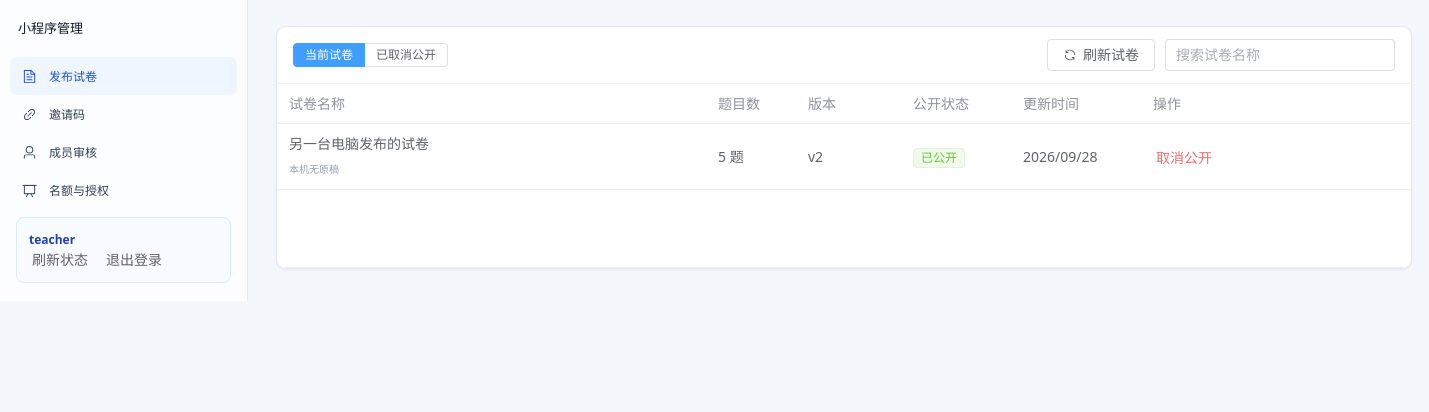
Scenario: keeps expired authorized members out of pending review and lets the owner remove them
What coordinates should you click on to do the following:
click the button "成员审核"
I would click on:
 (124, 152)
Its box is [10,133,237,171].
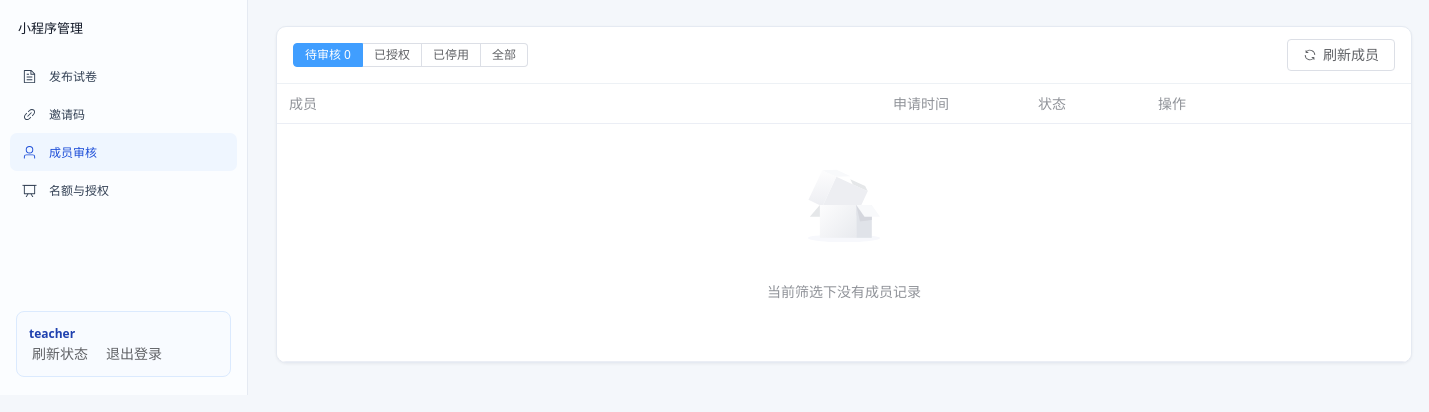
Check: the text "待审核 0" is shown, box [293,43,363,67]
Check: no rows are shown
What coordinates should you click on to do the following:
click the radio button labelled "已授权"
I would click on:
 (392, 55)
Its box is [363,43,422,67].
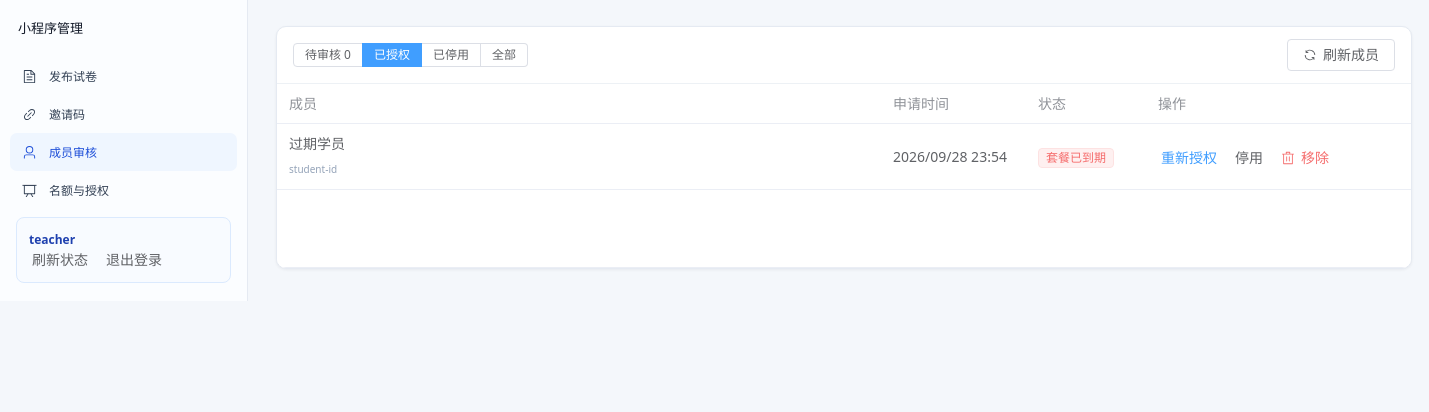
Check: the text "过期学员" is shown, box [289,134,345,153]
Check: the text "套餐已到期" is shown, box [1046,152,1106,164]
What coordinates should you click on to do the following:
click the button "移除"
I would click on:
 (1305, 158)
Its box is [1278,148,1332,168].
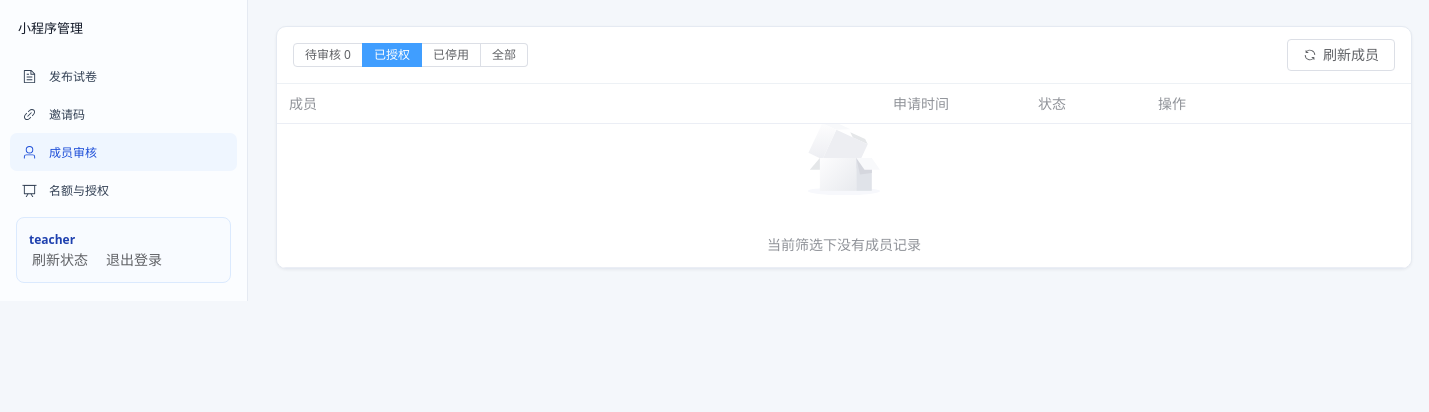
Check: the text "过期学员" is gone
